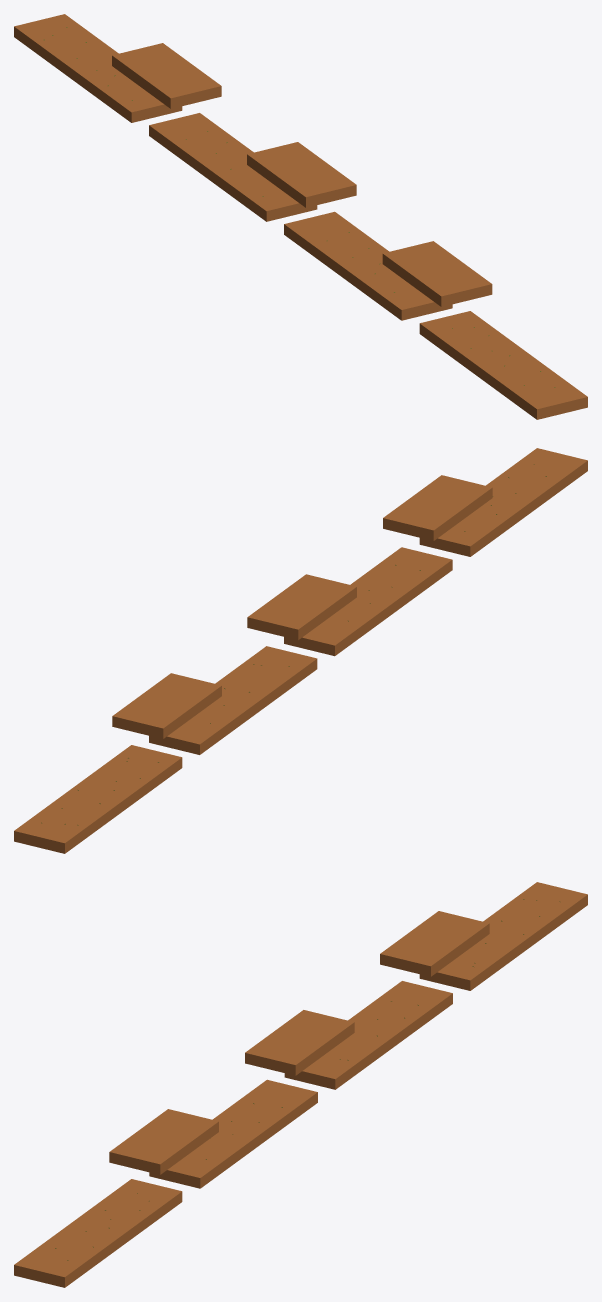
File: stage1.FBX
The picture shows the model from 3 angles, top to bottom: view 1: azimuth 30°, elevation 25°; view 2: azimuth 150°, elevation 25°; view 3: azimuth 330°, elevation 25°; orthographic projection.
Parts seen in each view (by area): view 1: Box001, Box003, Box004, Box005, Box006, Box007, Box008; view 2: Box005, Box001, Box003, Box004, Box007, Box006, Box008; view 3: Box001, Box004, Box005, Box003, Box006, Box008, Box007.
Part boxes in pixels (left/top/right/bottom): Box001: left=419, top=311, right=587, bottom=419; Box003: left=284, top=211, right=452, bottom=320; Box004: left=149, top=113, right=317, bottom=221; Box005: left=14, top=14, right=182, bottom=122; Box006: left=382, top=241, right=492, bottom=306; Box007: left=247, top=142, right=356, bottom=207; Box008: left=112, top=43, right=221, bottom=108; Box005: left=14, top=745, right=182, bottom=853; Box001: left=419, top=448, right=587, bottom=556; Box003: left=284, top=547, right=452, bottom=656; Box004: left=149, top=646, right=317, bottom=754; Box007: left=247, top=574, right=356, bottom=640; Box006: left=383, top=475, right=492, bottom=540; Box008: left=112, top=673, right=221, bottom=738; Box001: left=14, top=1179, right=182, bottom=1287; Box004: left=284, top=981, right=452, bottom=1089; Box005: left=419, top=882, right=587, bottom=990; Box003: left=149, top=1079, right=317, bottom=1188; Box006: left=109, top=1109, right=218, bottom=1174; Box008: left=380, top=911, right=489, bottom=976; Box007: left=245, top=1010, right=354, bottom=1075.
Size of the model in its own units: 197 by 198 by 3504.
